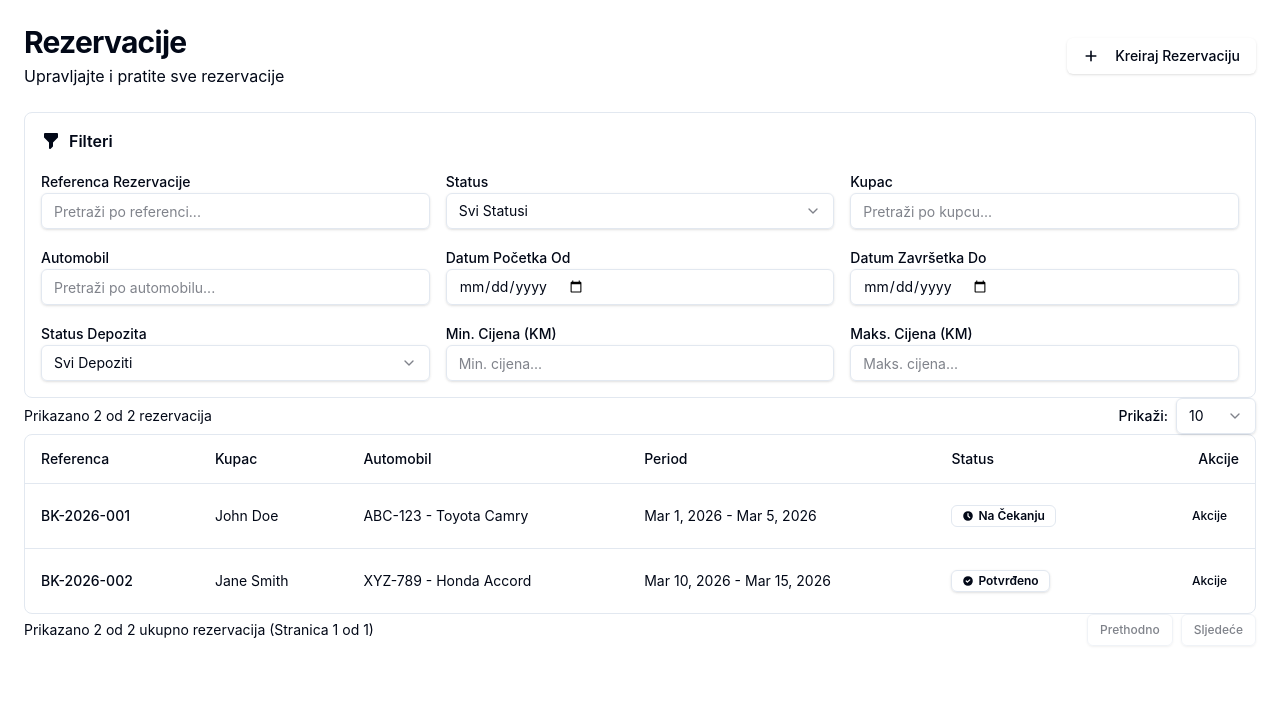
Test: BookingsPage › User Actions › should close cancel dialog on cancel button
Expected: the text "BK-2026-001" is shown, 25,483 -> 199,548
Click the button "Akcije" in the row of "BK-2026-001".
click(1210, 516)  # box 1180,500 -> 1239,532
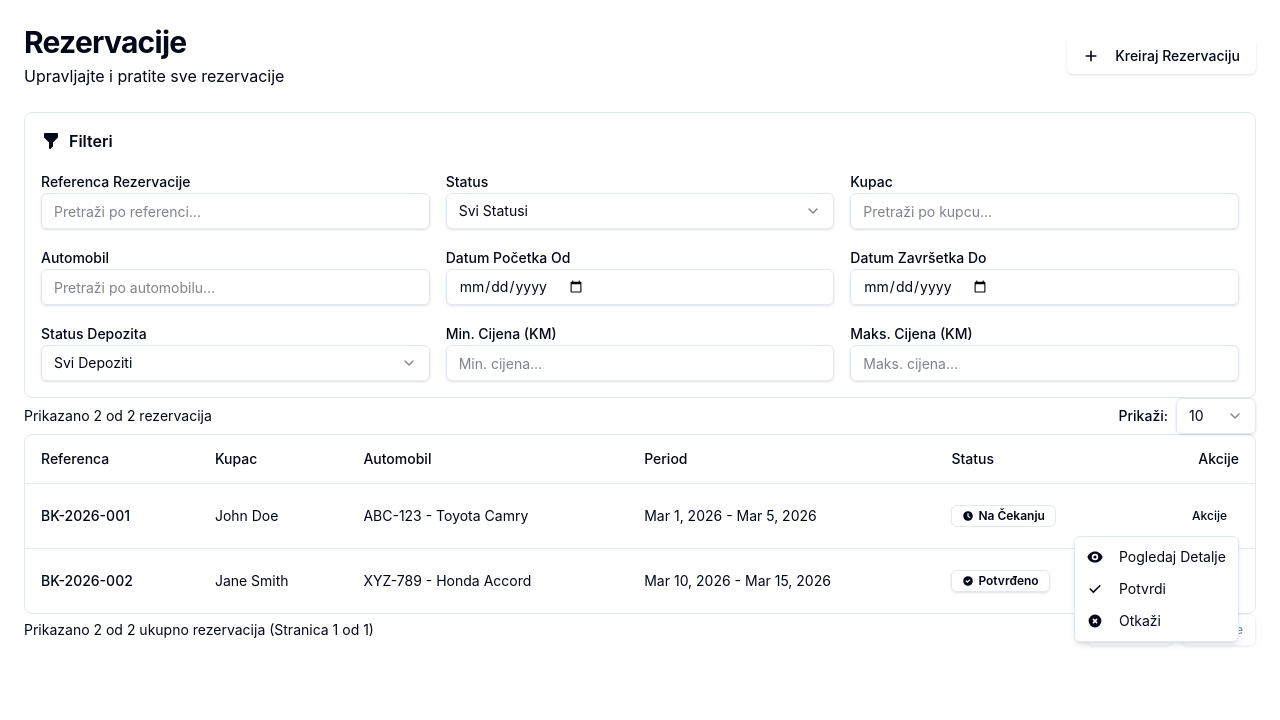
Click the menu item "Otkaži".
click(1124, 620)  # box 1087,612 -> 1161,629
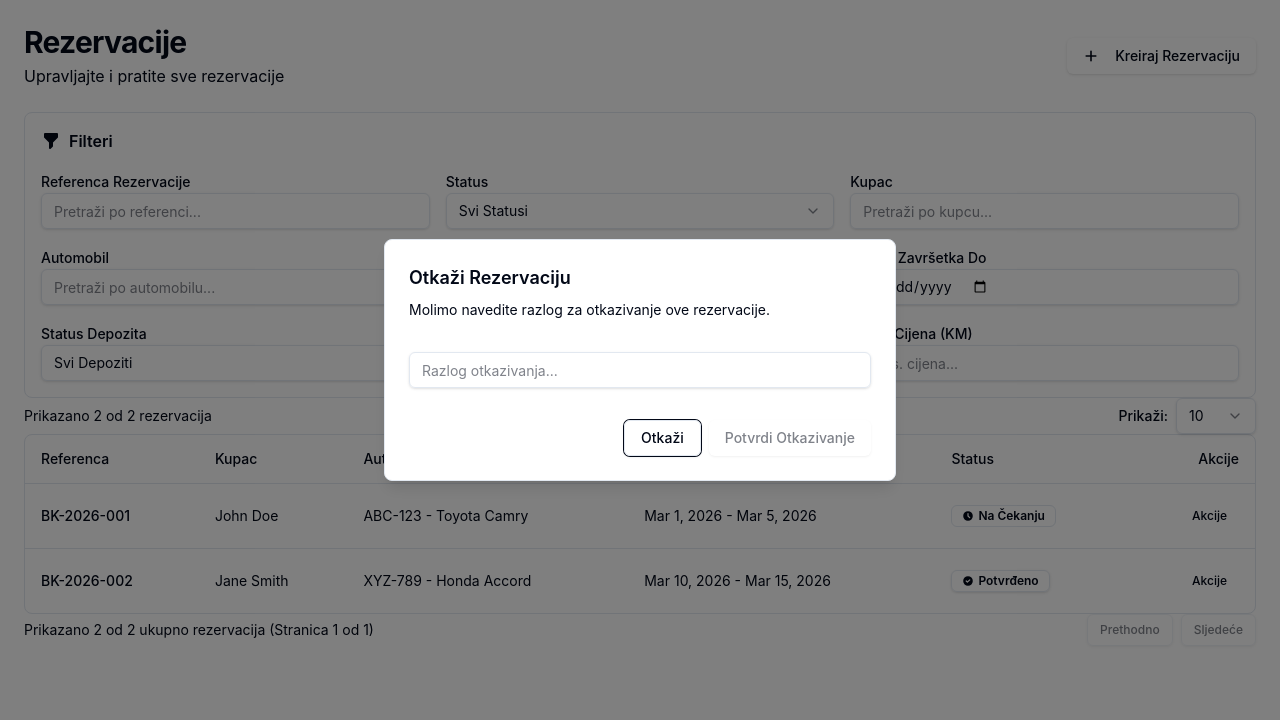
Click the button "Otkaži".
click(662, 438)  # box 624,420 -> 701,456
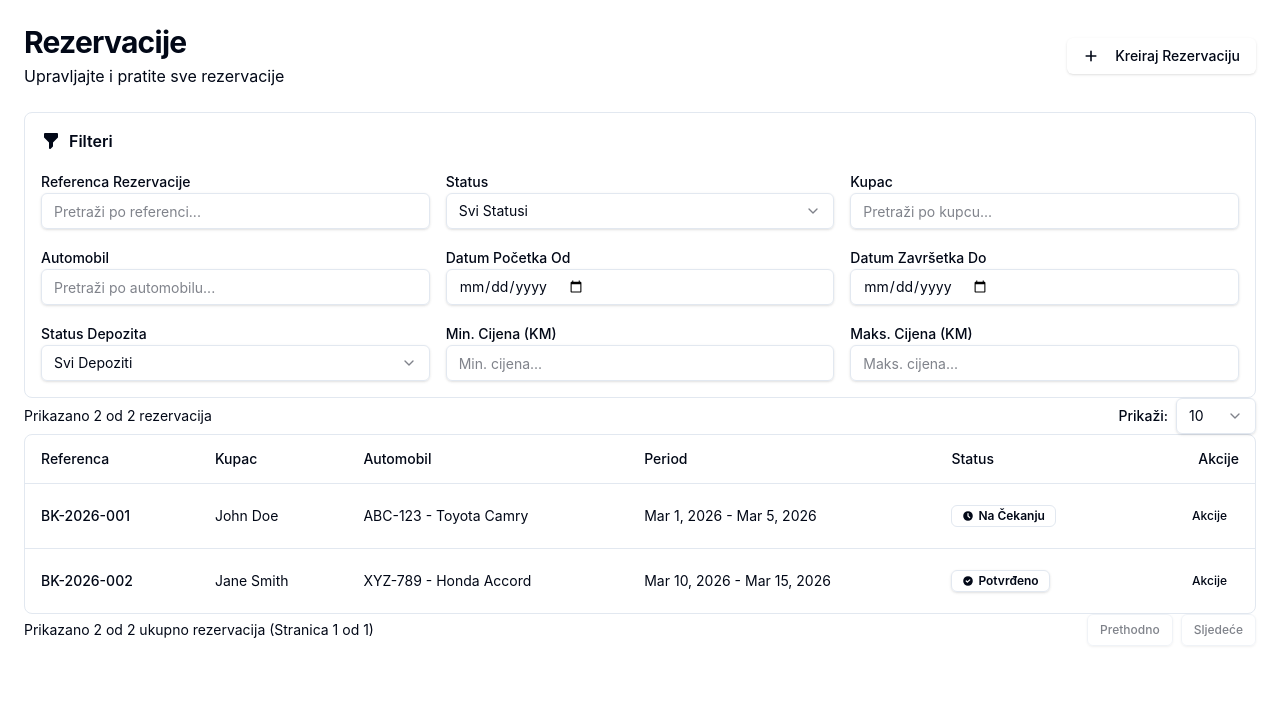
Expected: the heading "Otkaži Rezervaciju" is gone
